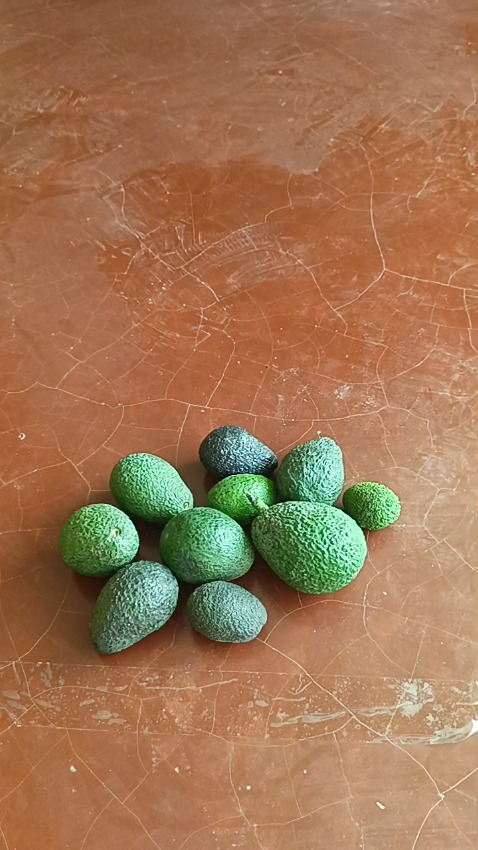Primera: (250, 499, 367, 593)
Segunda: (88, 558, 180, 653), (159, 507, 254, 585), (108, 451, 196, 523), (58, 501, 140, 577), (274, 436, 345, 505)
Tercera: (185, 578, 268, 643), (198, 425, 278, 478), (206, 474, 276, 525), (339, 480, 401, 531)
